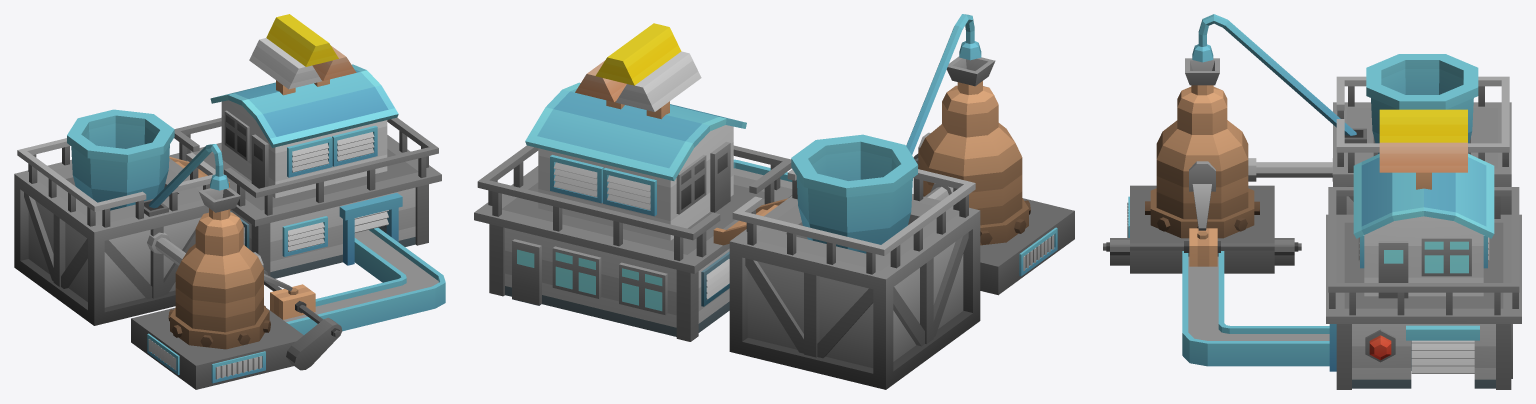
Rendered from foundry house.fbx.
3 renders of one model, left to right at view 1: azimuth 30°, elevation 25°; view 2: azimuth 150°, elevation 25°; view 3: azimuth 270°, elevation 25°, orthographic. The views are drawn at different scales.
Parts seen in each view (by area): view 1: foundry_house; view 2: foundry_house; view 3: foundry_house.
Part boxes in pixels (box(x1,y1,x2,y2)): foundry_house: box(14, 14, 445, 389); foundry_house: box(474, 14, 1074, 389); foundry_house: box(1103, 14, 1521, 389).
Size of the model in its own units: 1517 by 863 by 1430.
1 material, 1 textured.
